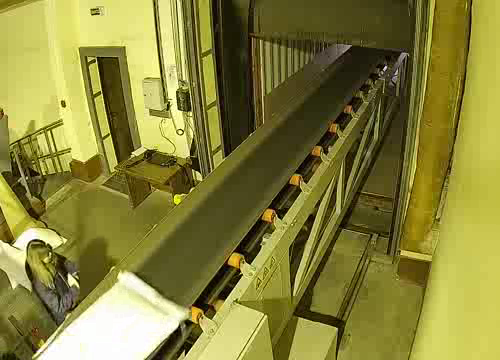bag: (33, 266, 200, 360)
